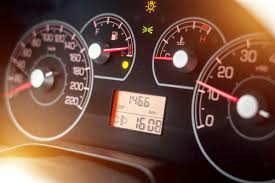Digital_Meter: (108, 87, 170, 136)
